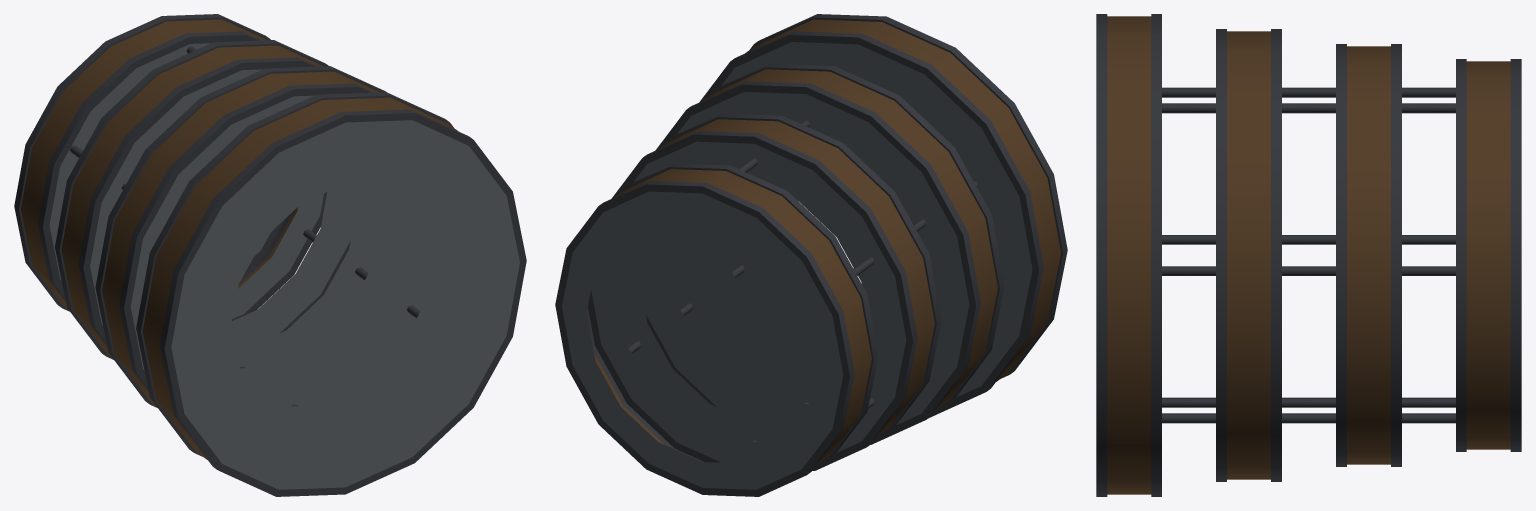
The model's file is n1_coil_stack.obj.
3 views of the same model, side by side, from view 1: azimuth 30°, elevation 25°; view 2: azimuth 150°, elevation 25°; view 3: azimuth 270°, elevation 25° (orthographic). The views are drawn at different scales.
Parts seen in each view (by area): view 1: n1_coil_stack; view 2: n1_coil_stack; view 3: n1_coil_stack.
Boxes of the visible parts, left/top/right/bottom form: n1_coil_stack: left=14, top=14, right=526, bottom=496; n1_coil_stack: left=555, top=14, right=1067, bottom=496; n1_coil_stack: left=1096, top=14, right=1521, bottom=496.
Bounding box in the file's own units: 4.84 × 4.84 × 4.26.
